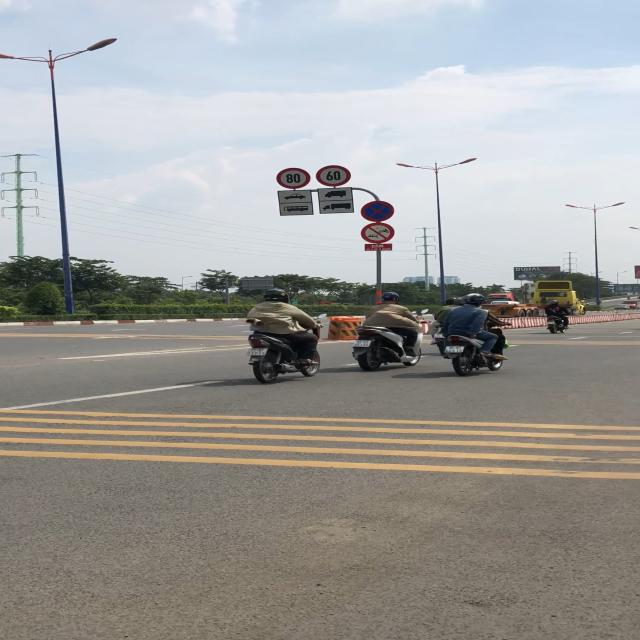Bien bao cam dung xe va do xe: (359, 200, 398, 222)
Bien bao toc do toi da cho phep: (314, 165, 355, 188), (275, 166, 311, 189)
